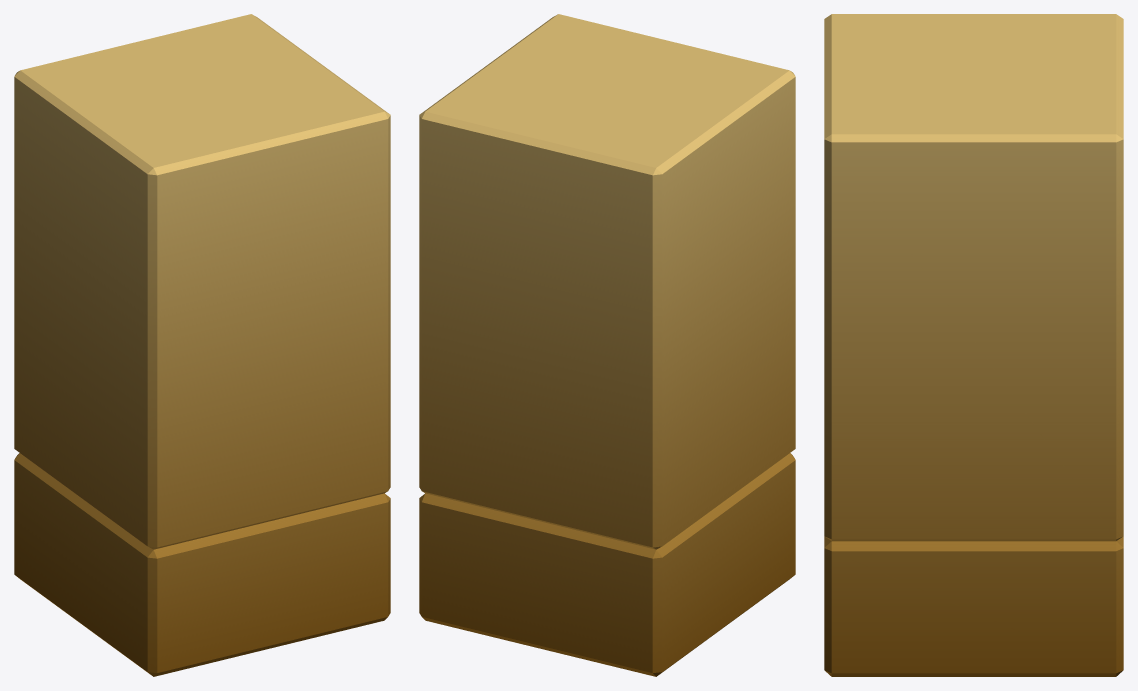
The model's file is Enviroment__Wall_Bricks_003.fbx.
3 renders of one model, left to right at view 1: azimuth 30°, elevation 25°; view 2: azimuth 150°, elevation 25°; view 3: azimuth 270°, elevation 25°, orthographic. The views are drawn at different scales.
Parts seen in each view (by area): view 1: Cube.005; view 2: Cube.005; view 3: Cube.005.
Part boxes in pixels (x1,y1,x2,y2): Cube.005: [14, 14, 390, 676]; Cube.005: [419, 14, 795, 676]; Cube.005: [824, 14, 1123, 676].
Size of the model in its own units: 20 by 40 by 20.
